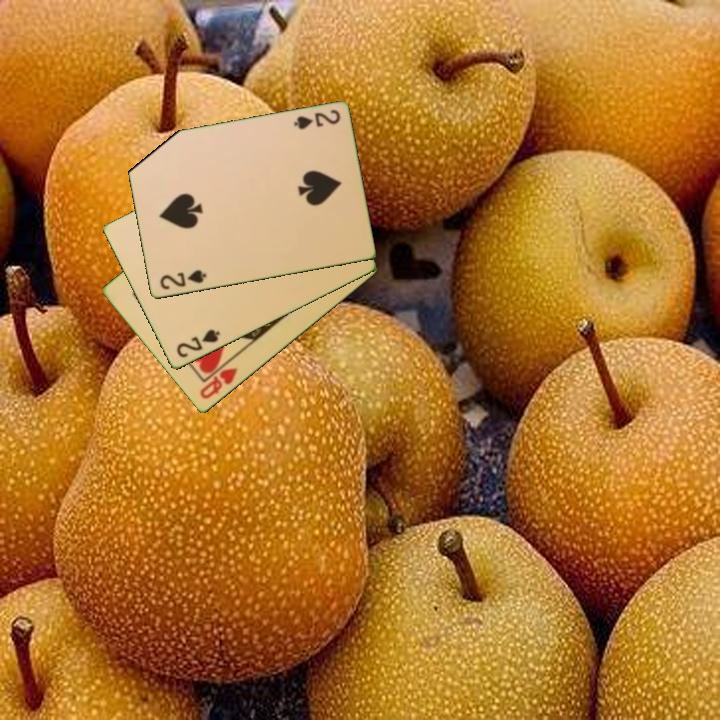2s: (173, 326, 223, 361), (290, 106, 343, 133), (156, 267, 209, 293)
Qh: (196, 364, 241, 402)
